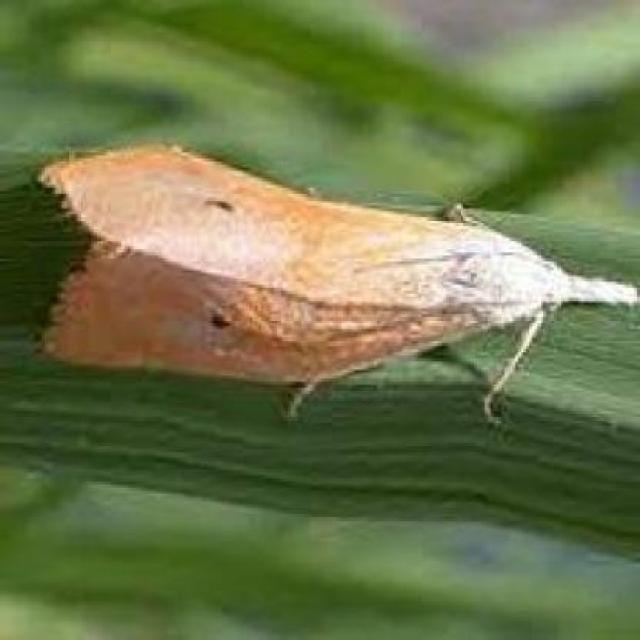stem-borer: (35, 142, 640, 426)
